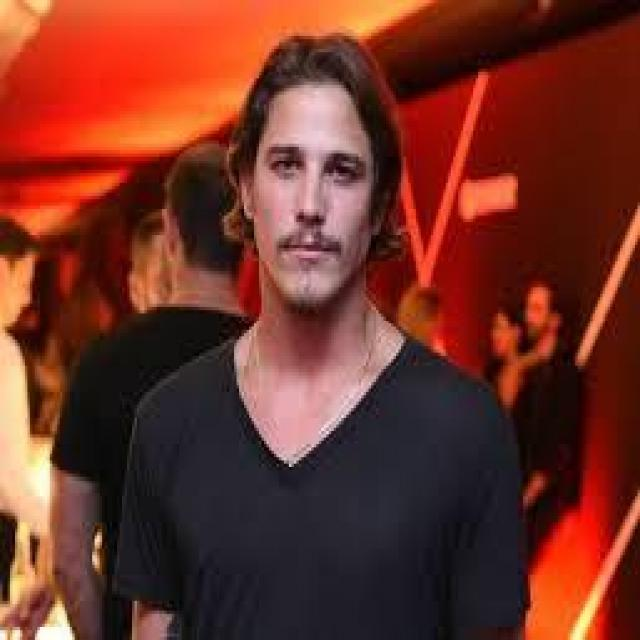person: (154, 29, 523, 637), (55, 137, 271, 637), (0, 215, 102, 608), (506, 271, 605, 545)
